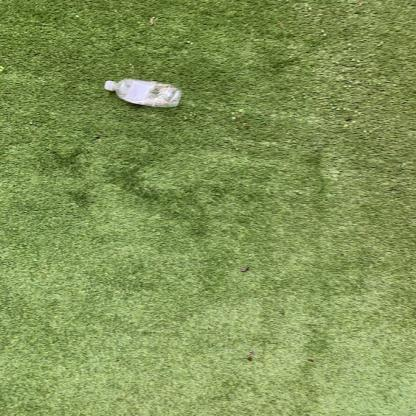trash: (101, 77, 185, 110)
